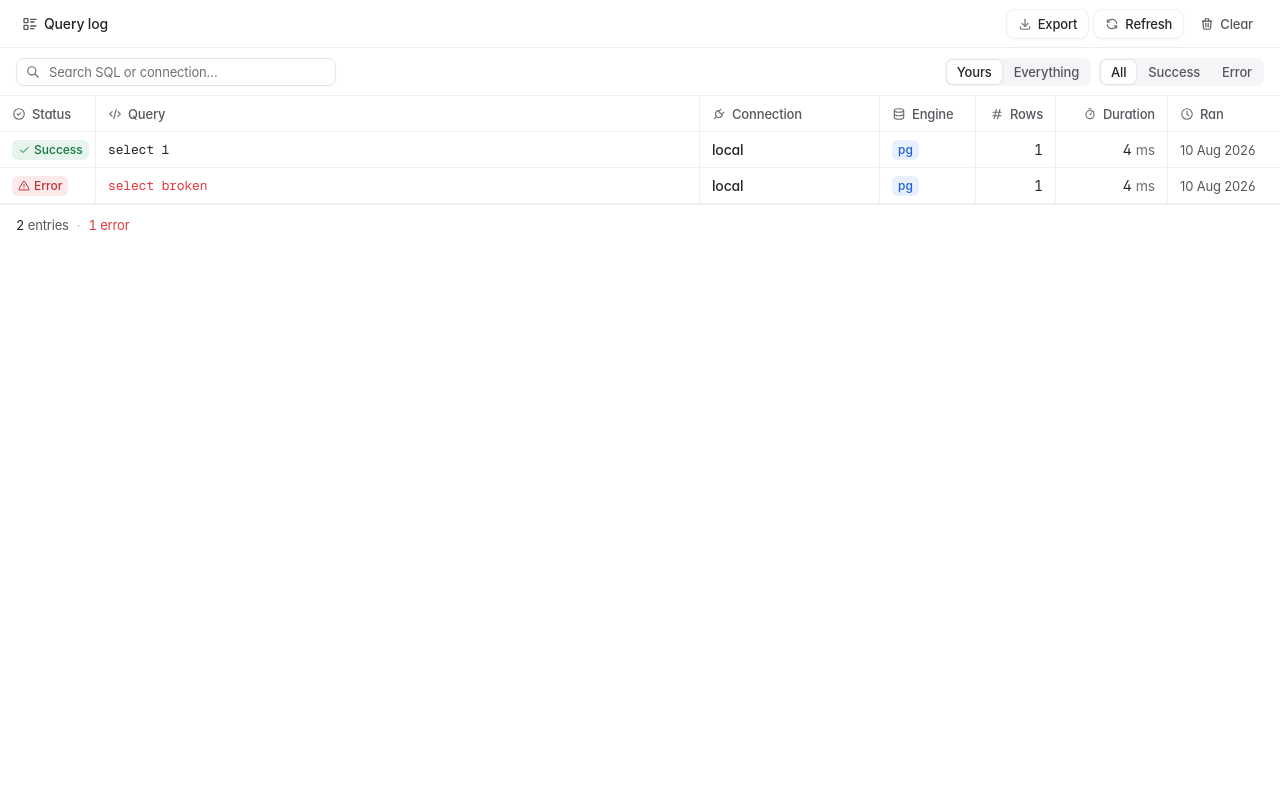
Scenario: the status › reads the same in the list and in the detail panel
The width and height of the screenshot is (1280, 800).
Click the button "select broken" at (640, 186), box [0,168,1279,204]
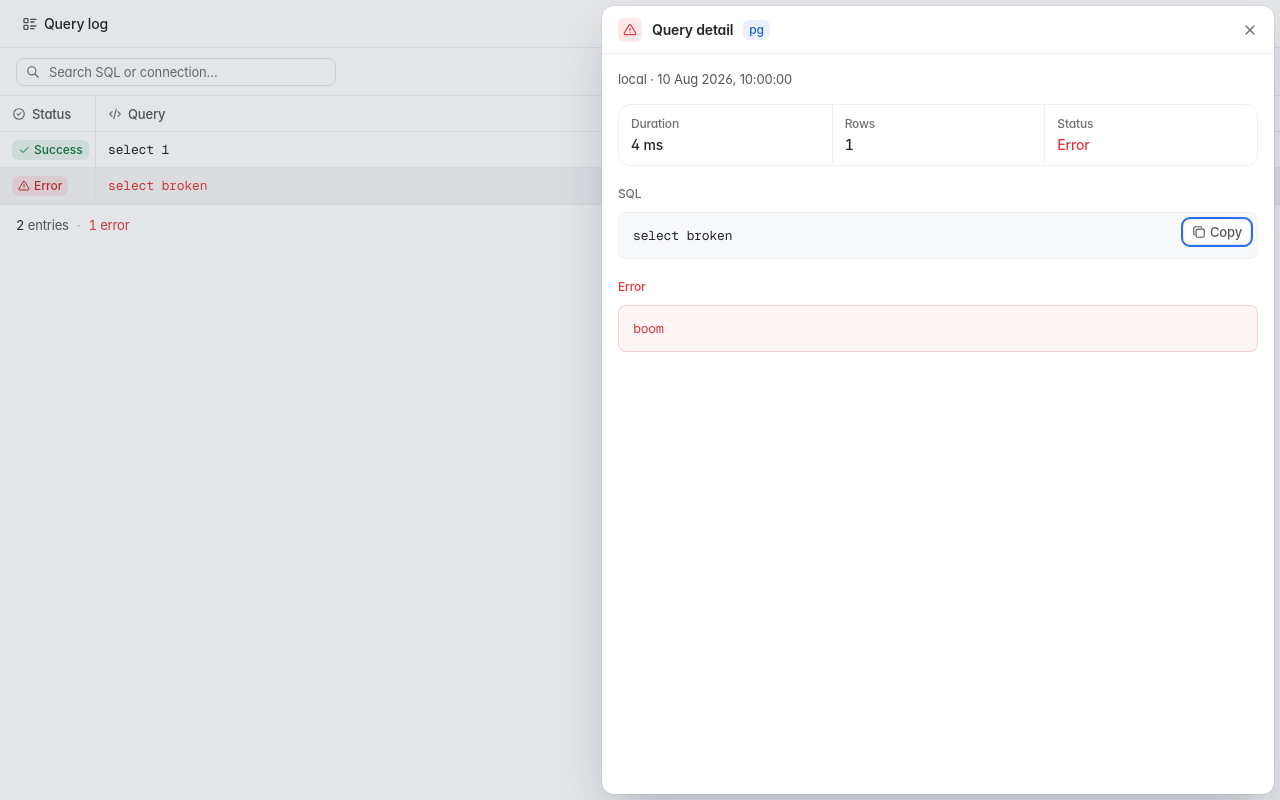
Check: the text "boom" is shown, box [618,305,1258,352]
